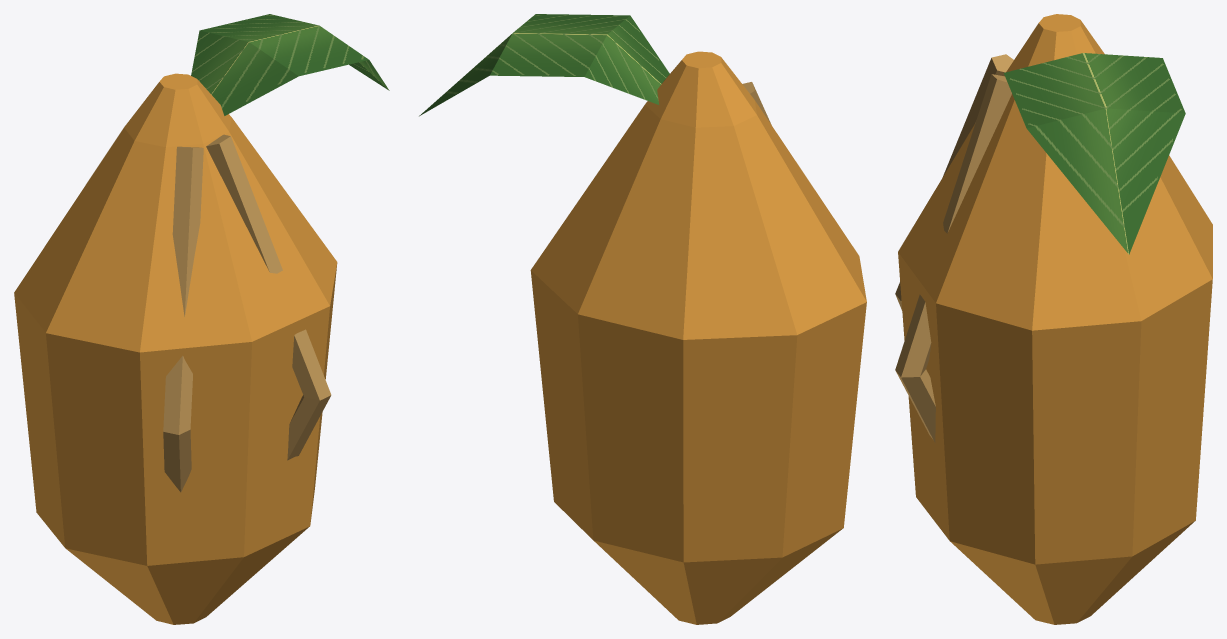
File: seed.glb
3 views of the same model, side by side, from view 1: azimuth 30°, elevation 25°; view 2: azimuth 150°, elevation 25°; view 3: azimuth 270°, elevation 25° (orthographic). The views are drawn at different scales.
Parts seen in each view (by area): view 1: Seed; view 2: Seed; view 3: Seed.
Part boxes in pixels (bbox=[...]): Seed: bbox=[14, 14, 389, 624]; Seed: bbox=[419, 14, 866, 624]; Seed: bbox=[895, 14, 1212, 624].
Size of the model in its own units: 0.2751 by 0.3684 by 0.1761.
Materials: 3 (1 with a texture image).
